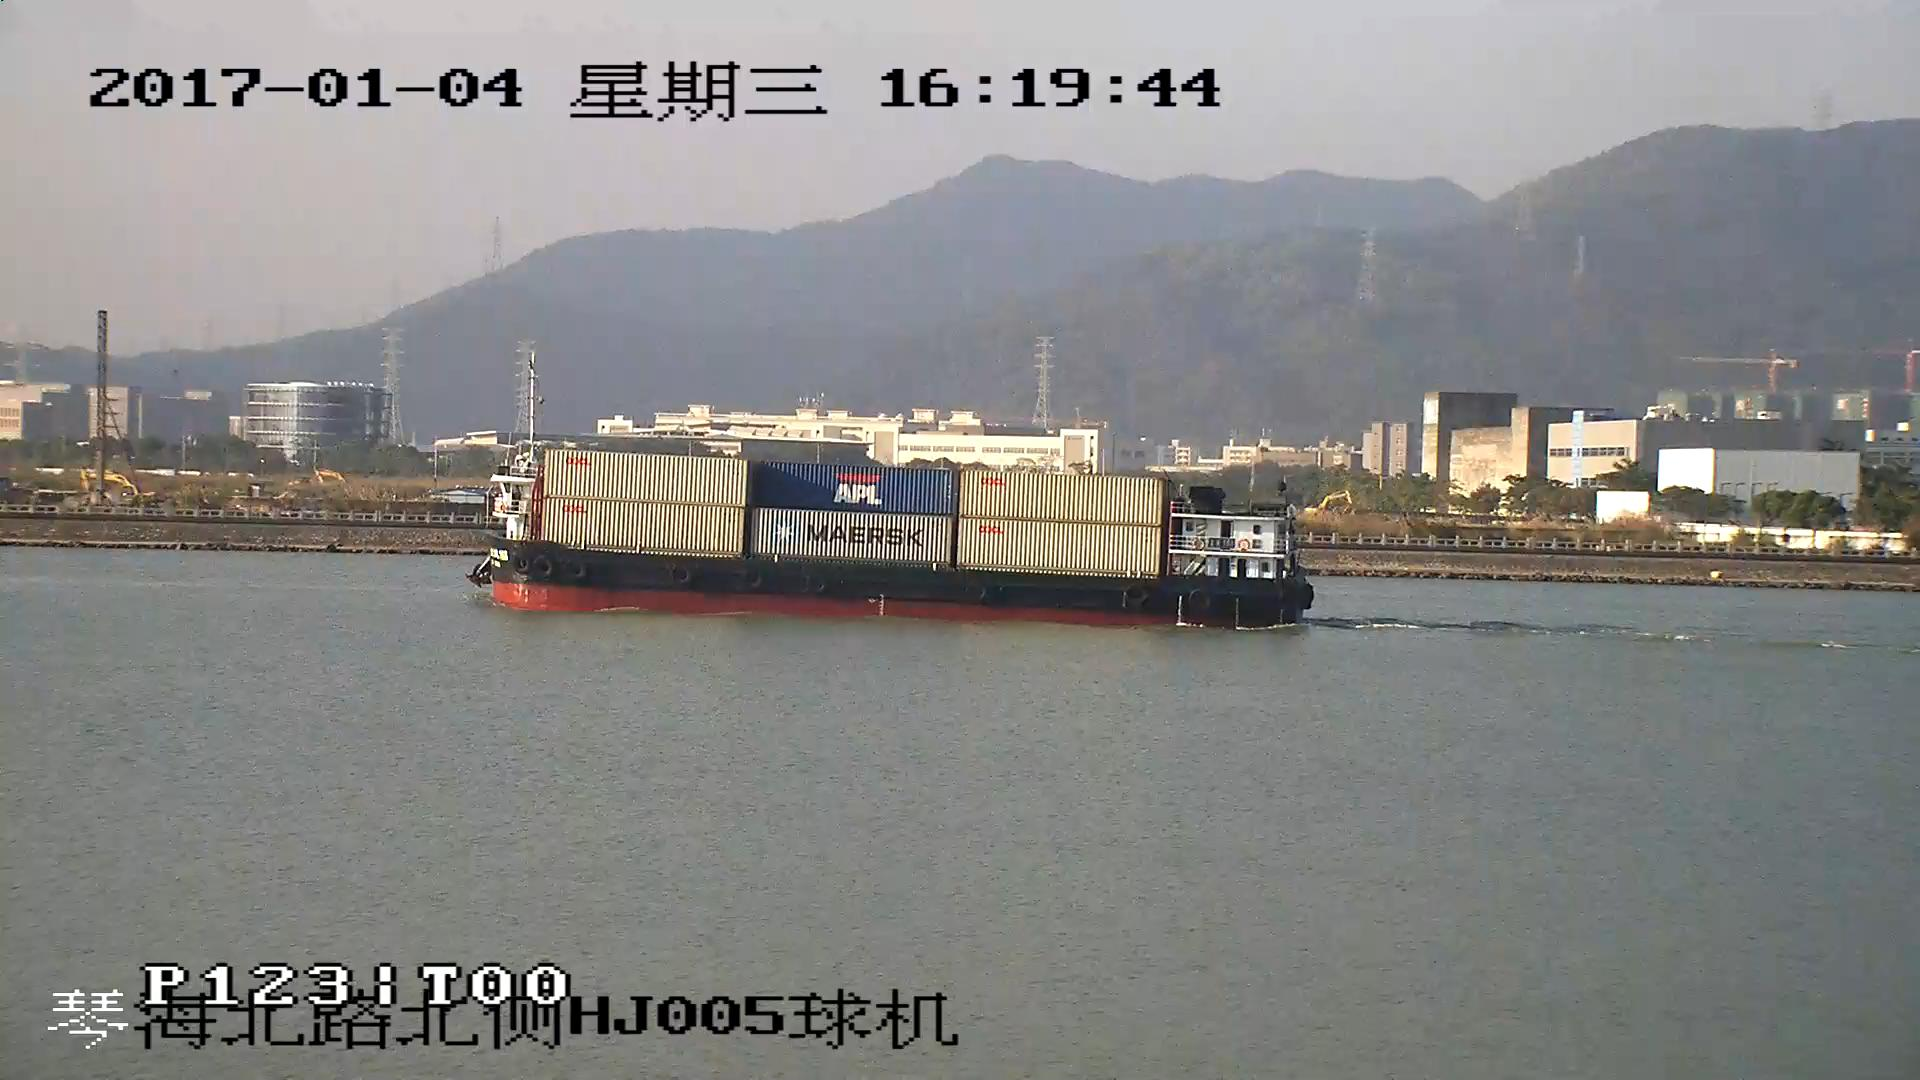container ship: (468, 433, 1314, 622)
